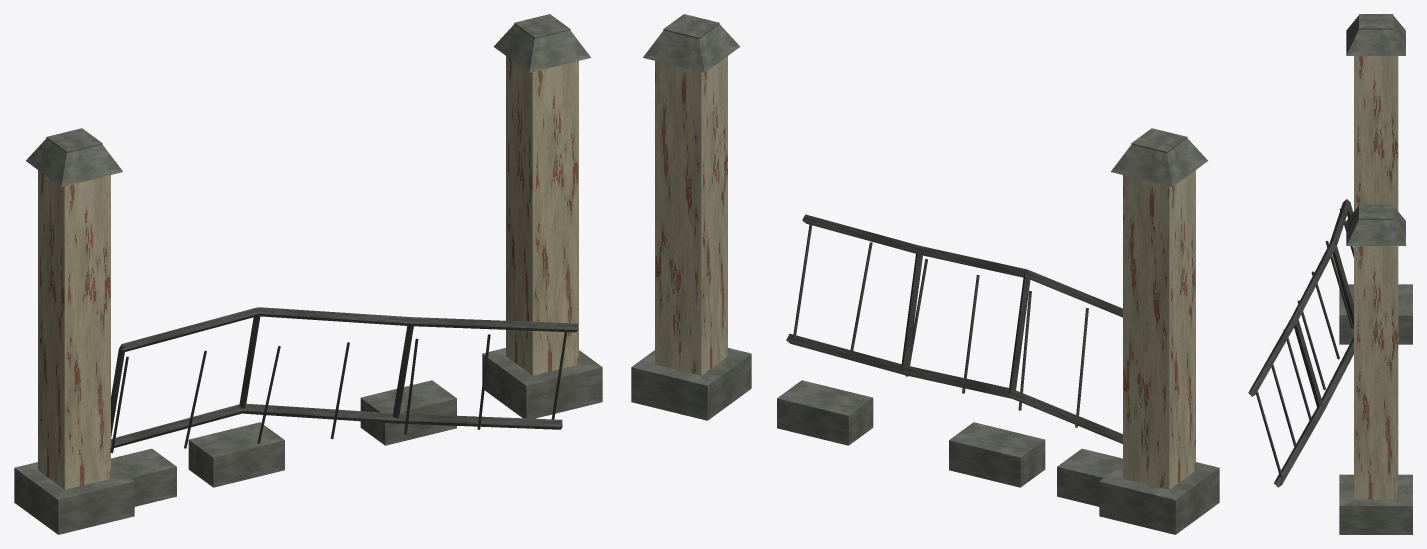
The model's file is base_fence_damaged_lod.gltf.
3 views of the same model, side by side, from view 1: azimuth 30°, elevation 25°; view 2: azimuth 150°, elevation 25°; view 3: azimuth 270°, elevation 25° (orthographic). The views are drawn at different scales.
Parts seen in each view (by area): view 1: base_fence_damaged_lod; view 2: base_fence_damaged_lod; view 3: base_fence_damaged_lod.
Part boxes in pixels (<box>): base_fence_damaged_lod: <box>14,14,602,534</box>; base_fence_damaged_lod: <box>631,14,1219,534</box>; base_fence_damaged_lod: <box>1248,14,1412,534</box>.
Bounding box in the file's own units: 3.42 × 2.22 × 1.08.
1 material, 1 textured.
